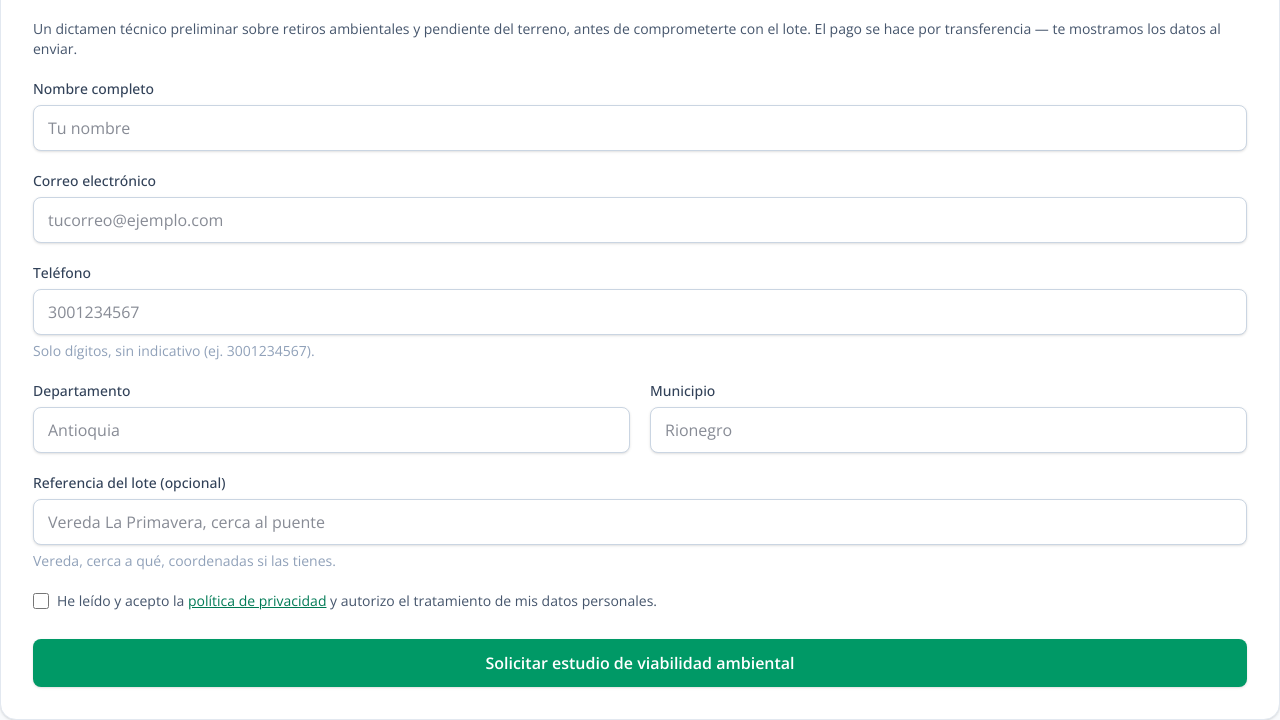
Test: ViabilidadAmbientalSection › muestra errores de validación cuando el formulario está vacío
The width and height of the screenshot is (1280, 720).
(page scrolled)
Click the button "Solicitar estudio de viabilidad ambiental" at [640, 663], box [33, 639, 1247, 687]
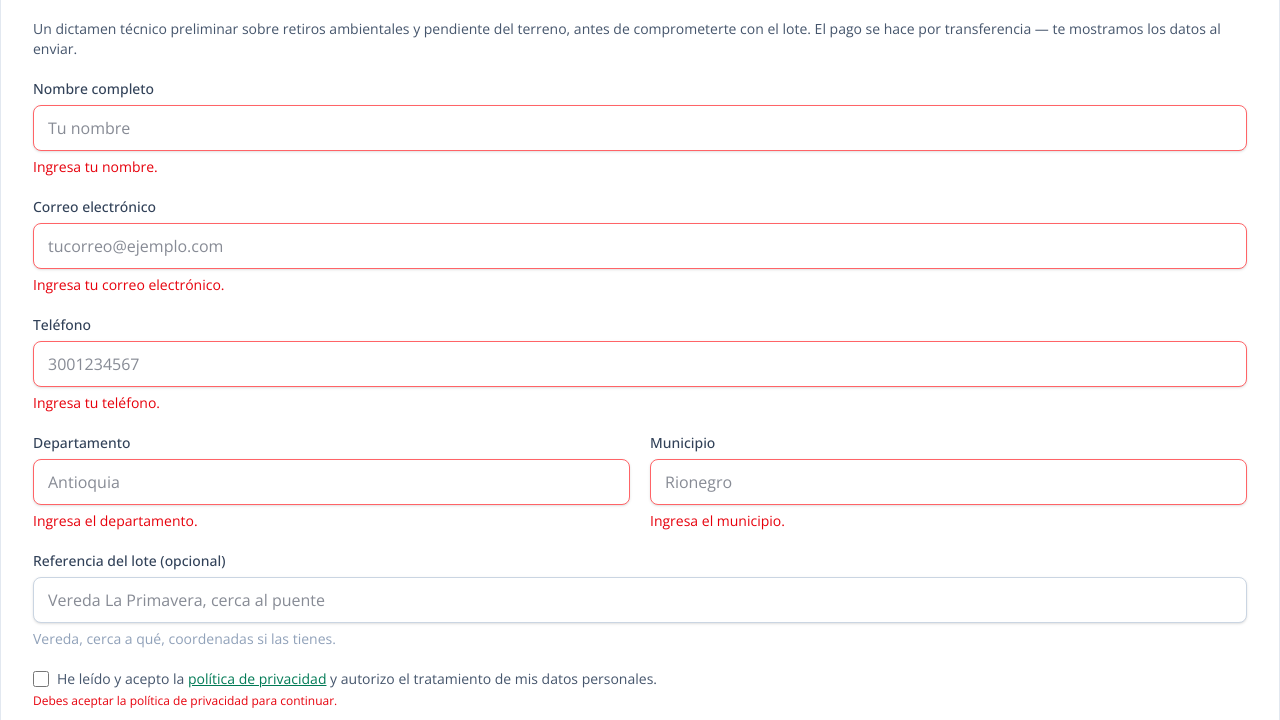
Expected: the text "Ingresa tu nombre." is shown, [33, 157, 158, 176]
